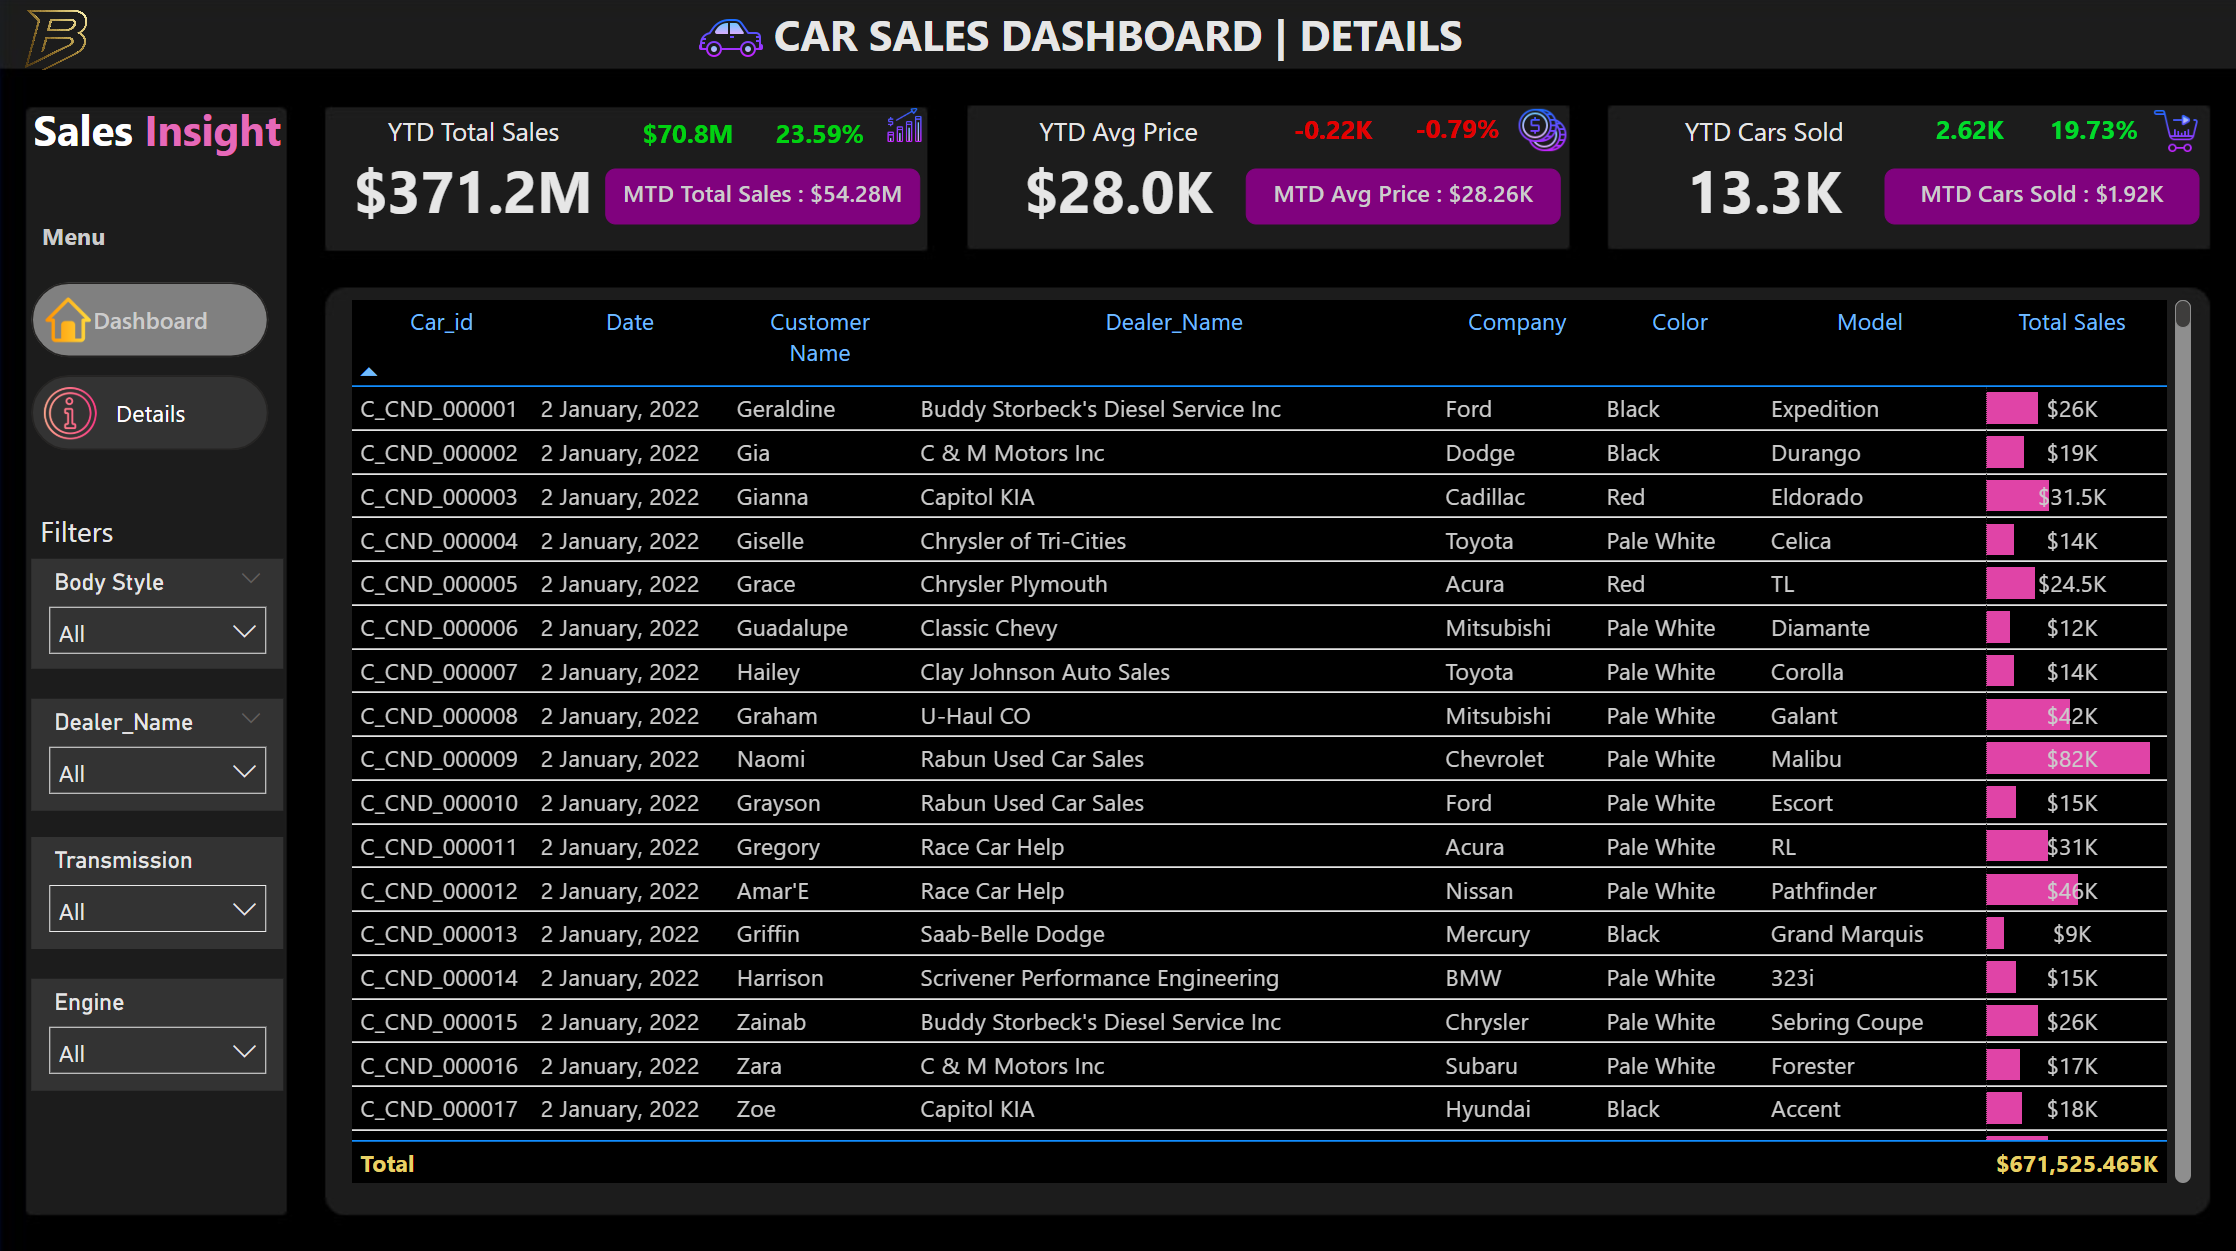

The dashboard page shown, as its layout file describes it:
{"tool":"powerbi","page":{"name":"Details","canvas":[1280,720],"ordinal":1},"visuals":[{"type":"card","title":"YTD Total Sales","fields":{"Values":["car_data.YTD Total Sales"]},"box":[188.8,65.7,164.8,70.9],"z":0},{"type":"card","fields":{"Values":["car_data.Sales Difference"]},"box":[353.7,65.7,80.3,26.1],"z":1000},{"type":"card","fields":{"Values":["car_data.YOY Sales Growth"]},"box":[429,66,81,26],"z":2000},{"type":"card","fields":{"Values":["car_data.MTD KPI"]},"box":[346.7,97.8,180,32.2],"z":3000},{"type":"card","title":"YTD Avg Price ","fields":{"Values":["car_data.YTD Avg Price"]},"box":[557.8,65.6,164.4,71.1],"z":4000},{"type":"card","title":"YTD Cars Sold ","fields":{"Values":["car_data.YTD Cars Sold"]},"box":[926.7,65.6,164.4,71.1],"z":5000},{"type":"card","fields":{"Values":["car_data.AVG Price Diff"]},"box":[722.2,64.4,81.1,26.7],"z":6000},{"type":"card","fields":{"Values":["car_data.YOY AVG Price Growth"]},"box":[793,63,81,26],"z":7000},{"type":"card","fields":{"Values":["car_data.MTD AVG KPI"]},"box":[713.3,97.8,180,32.2],"z":8000},{"type":"card","fields":{"Values":["car_data.Cars Sold Diff"]},"box":[1086,64,81,27],"z":9000},{"type":"card","fields":{"Values":["car_data.YOY Car Sold Growth"]},"box":[1157,64,81,27],"z":10000},{"type":"card","fields":{"Values":["car_data.MTD Cars Sold KPI"]},"box":[1077.8,97.8,180,32.2],"z":11000},{"type":"textbox","box":[408,0,464,47],"z":17000},{"type":"slicer","fields":{"Values":["car_data.Body Style"]},"box":[19,321,144,63],"z":18000},{"type":"slicer","fields":{"Values":["car_data.Dealer_Name"]},"box":[19,401,144,64],"z":19000},{"type":"slicer","fields":{"Values":["car_data.Transmission"]},"box":[19,480,144,64],"z":20000},{"type":"slicer","fields":{"Values":["car_data.Engine"]},"box":[19,561,144,64],"z":21000},{"type":"textbox","box":[19,289,64,32],"z":22000},{"type":"tableEx","fields":{"Values":["car_data.Car_id","car_data.Date","car_data.Customer Name","car_data.Dealer_Name","car_data.Company","car_data.Color","car_data.Model","car_data.Total Sales"]},"box":[196,168,1062,515],"z":22001},{"type":"textbox","box":[15,54,160,47],"z":22002},{"type":"pageNavigator","box":[19,163,136,97],"z":22003},{"type":"textbox","box":[20,122,55,38],"z":22004},{"type":"image","box":[0,0,67,47],"z":22005},{"type":"image","box":[392,0,53,47],"z":22006},{"type":"image","box":[494,56,48,34],"z":22007},{"type":"image","box":[860,54,45,44],"z":22008},{"type":"image","box":[1221,56,46,41],"z":22009},{"type":"image","box":[19,161,42,47],"z":22010},{"type":"image","box":[19,215,44,46],"z":22011}]}

Visuals, with their boxes in screenshot pixels (x1, y1, x2, y2), scaled from the page's 1280x720 canvas onto the 2236x1251 screenshot:
"YTD Total Sales" card: 330/114/618/237
card - car_data.Sales Difference: 618/114/758/160
card - car_data.YOY Sales Growth: 749/115/891/160
card - car_data.MTD KPI: 606/170/920/226
"YTD Avg Price " card: 974/114/1262/238
"YTD Cars Sold " card: 1619/114/1906/238
card - car_data.AVG Price Diff: 1262/112/1403/158
card - car_data.YOY AVG Price Growth: 1385/109/1527/155
card - car_data.MTD AVG KPI: 1246/170/1560/226
card - car_data.Cars Sold Diff: 1897/111/2039/158
card - car_data.YOY Car Sold Growth: 2021/111/2163/158
card - car_data.MTD Cars Sold KPI: 1883/170/2197/226
textbox: 713/0/1523/82
slicer - car_data.Body Style: 33/558/285/667
slicer - car_data.Dealer_Name: 33/697/285/808
slicer - car_data.Transmission: 33/834/285/945
slicer - car_data.Engine: 33/975/285/1086
textbox: 33/502/145/558
tableEx - car_data.Car_id x car_data.Date: 342/292/2198/1187
textbox: 26/94/306/175
pageNavigator: 33/283/271/452
textbox: 35/212/131/278
image: 0/0/117/82
image: 685/0/777/82
image: 863/97/947/156
image: 1502/94/1581/170
image: 2133/97/2213/169
image: 33/280/107/361
image: 33/374/110/453
